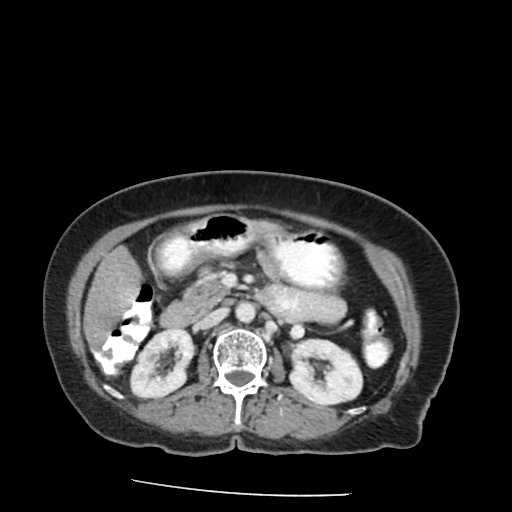aorta: (230, 295, 259, 329)
